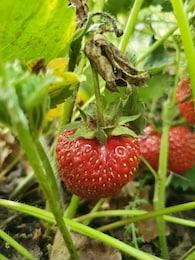Fresa: (55, 112, 145, 204)
